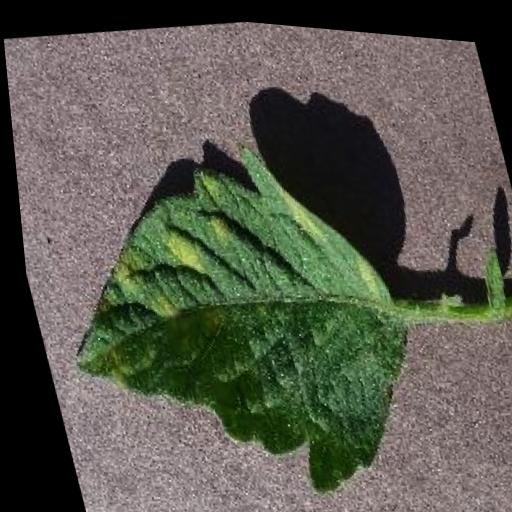Leaf Mold: (14, 102, 441, 512)
